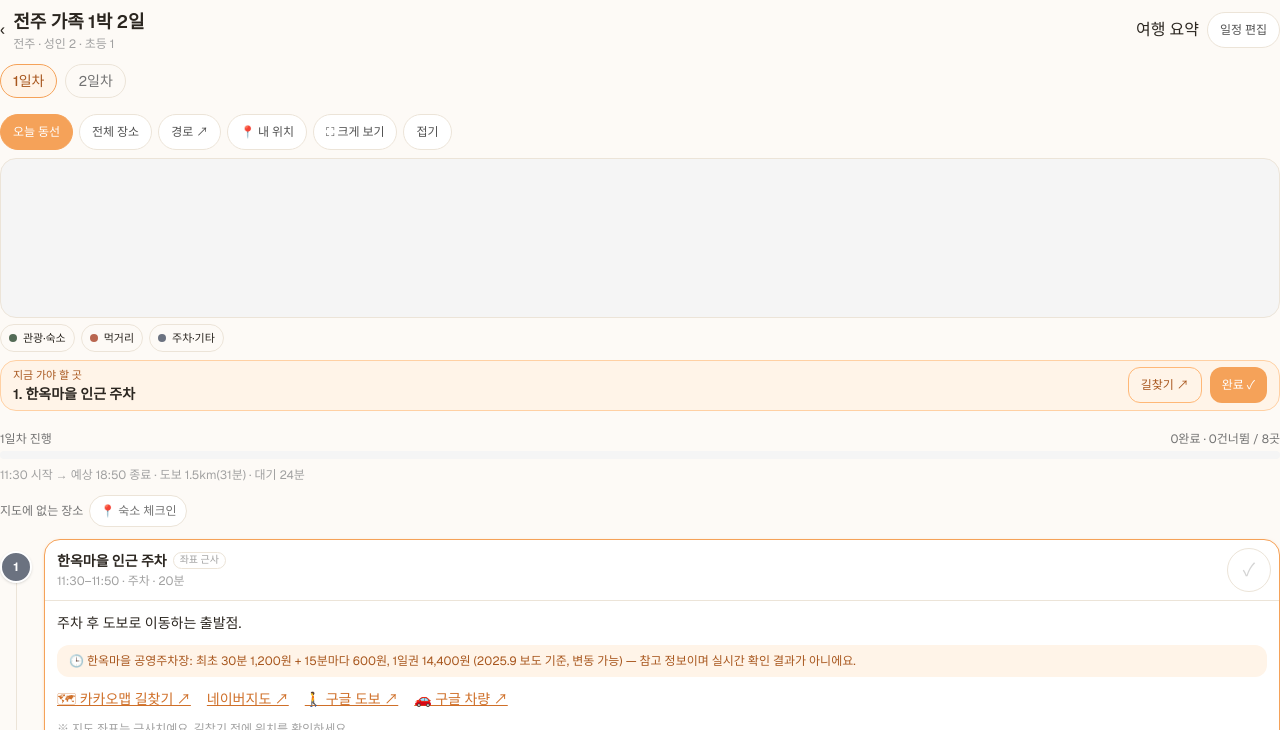
Test: 시간·블록 편집 › 블록의 장소를 바꾸면 그 자리에서 이름과 시간이 바뀐다 (필수 방문지는 잠김)
Step 1. Click the button "일정 편집" → (1243, 30), box [1207,12,1279,48]
(page scrolled)
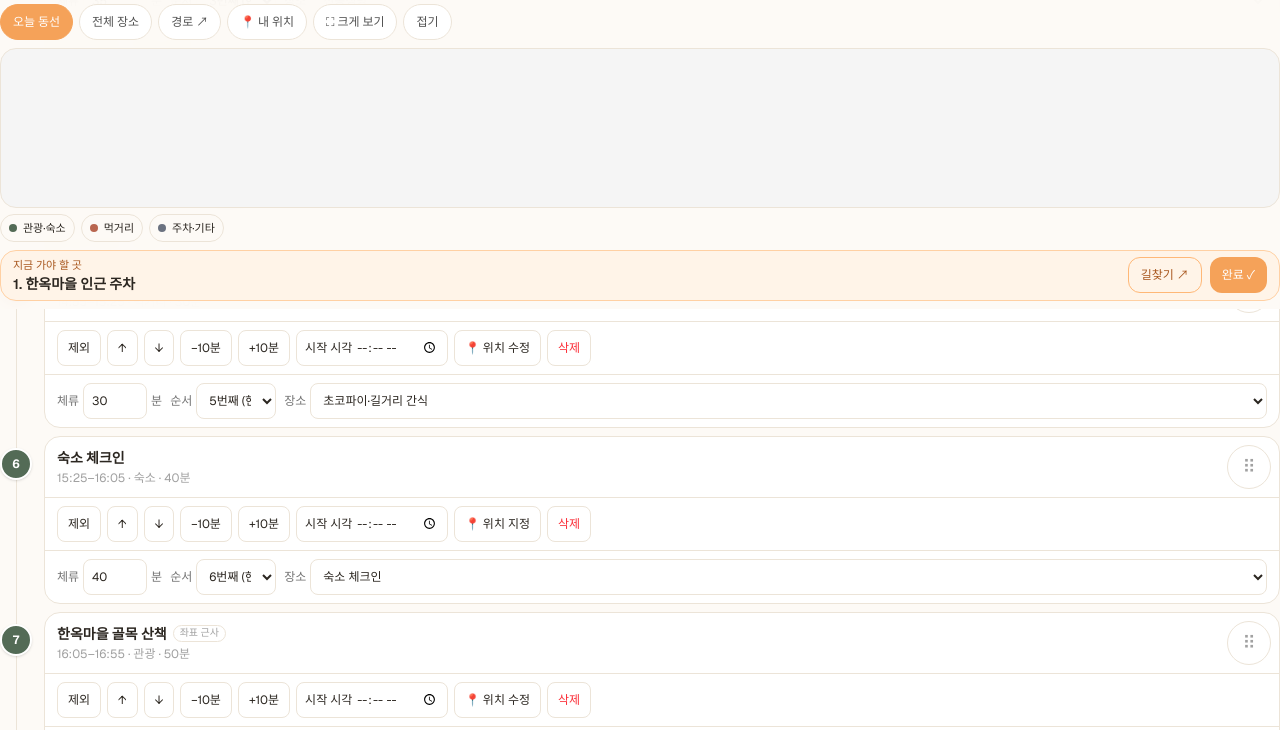
Step 2. Select "한옥 카페 휴식" in the dropdown named "초코파이·길거리 간식 장소 바꾸기" → (789, 400), box [310,382,1267,418]
(page scrolled)
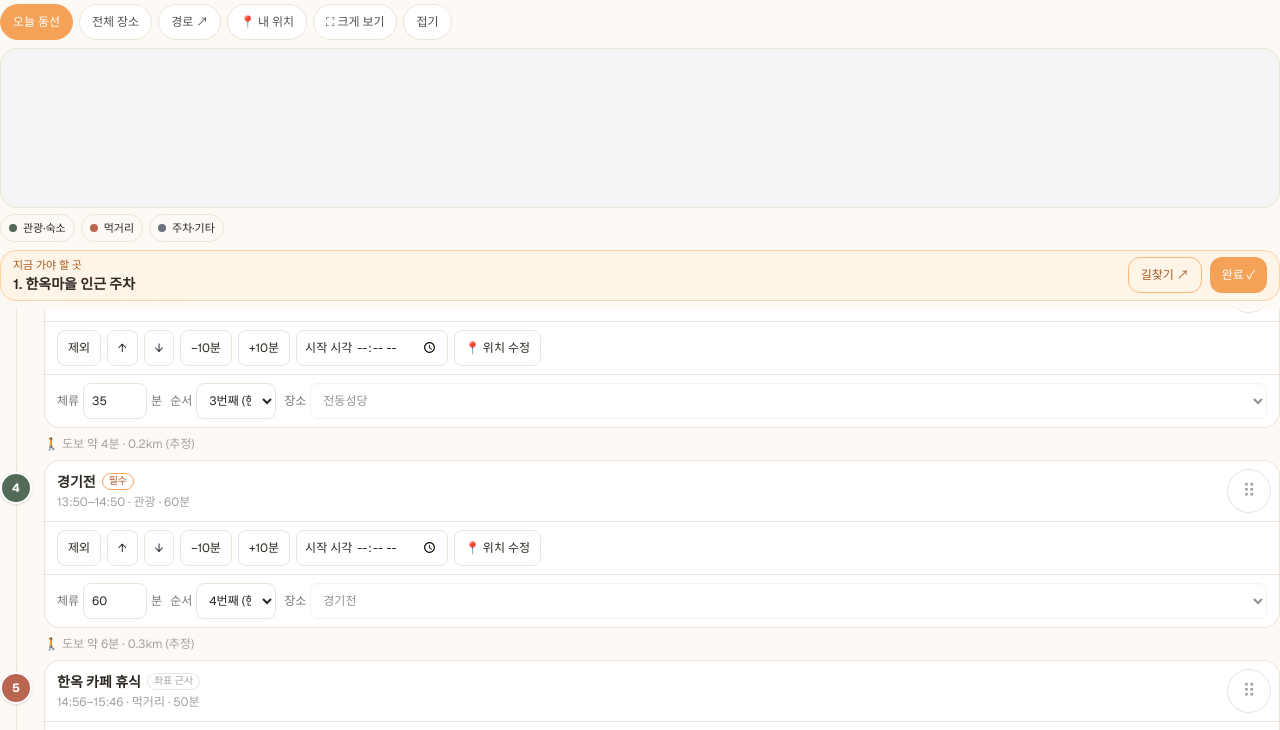
Expected: the dropdown named "전동성당 장소 바꾸기" is disabled, [310,382,1267,418]
Expected: the list item with test id "stop-d1-snack" shows "한옥 카페 휴식", [45,660,1219,720]
